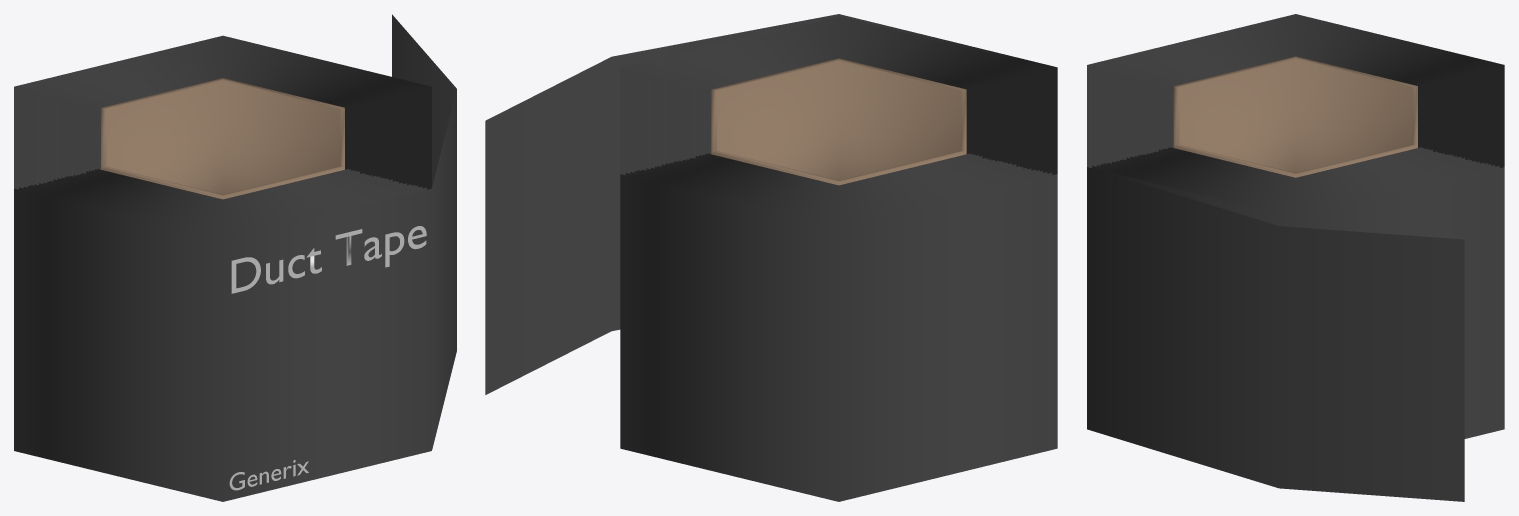
Rendered from DuctTape.glb.
3 views of the same model, side by side, from view 1: azimuth 30°, elevation 25°; view 2: azimuth 150°, elevation 25°; view 3: azimuth 270°, elevation 25° (orthographic). The views are drawn at different scales.
Visible parts, largest first — view 1: DuctTape; view 2: DuctTape; view 3: DuctTape.
Part boxes in pixels (x1,y1,x2,y2): DuctTape: (14, 14, 456, 501); DuctTape: (485, 14, 1057, 501); DuctTape: (1087, 14, 1504, 501).
Bounding box in the file's own units: 2.39 × 1.3 × 1.87.
